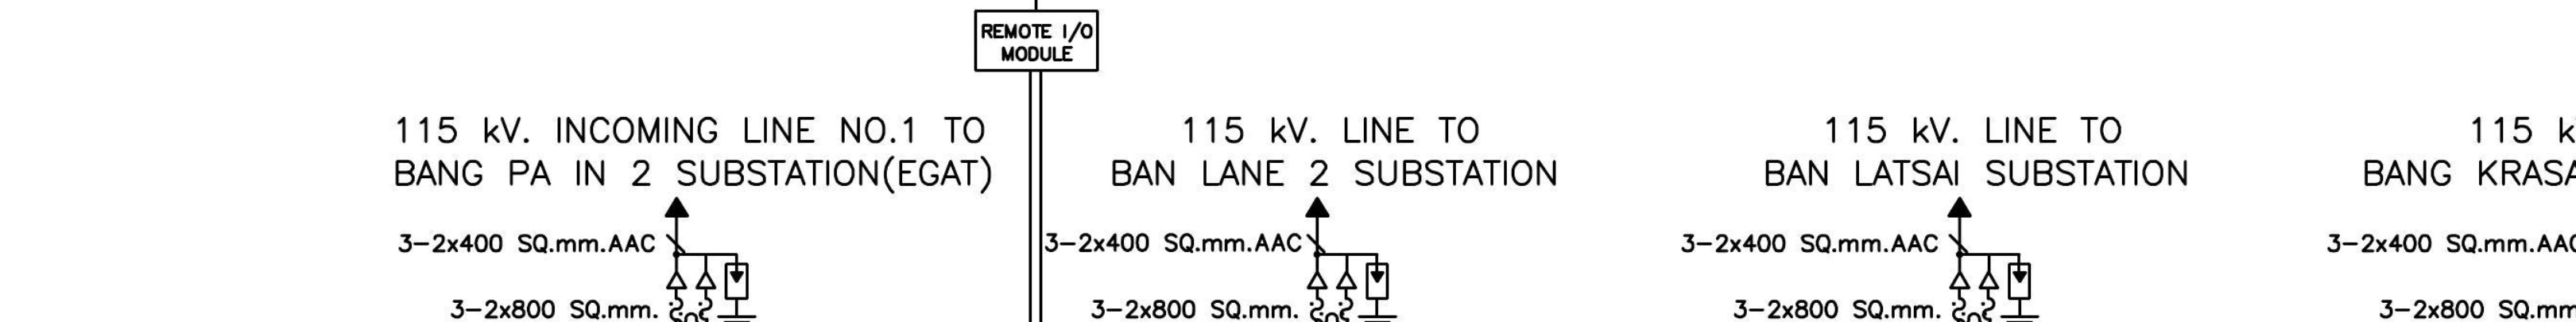remote_io_module: (973, 10, 1099, 72)
terminator_double: (1947, 251, 2001, 291), (665, 251, 718, 291), (1306, 251, 1359, 291)
